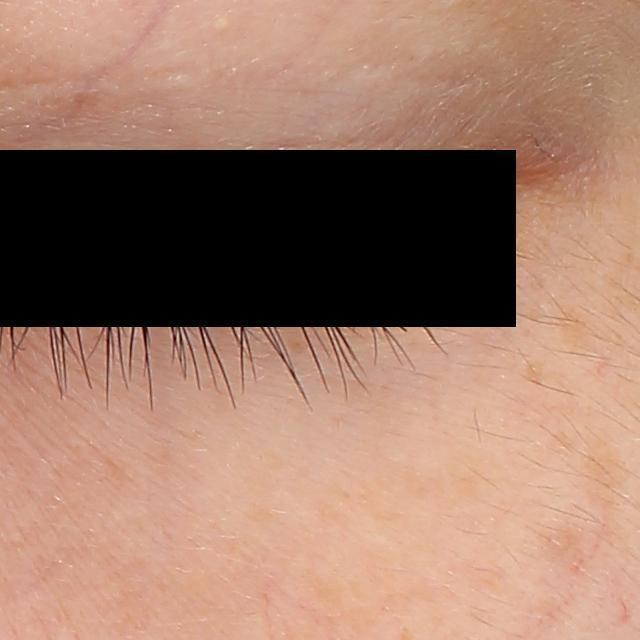melasma: (584, 442, 628, 501), (557, 302, 592, 343), (519, 358, 545, 387)
